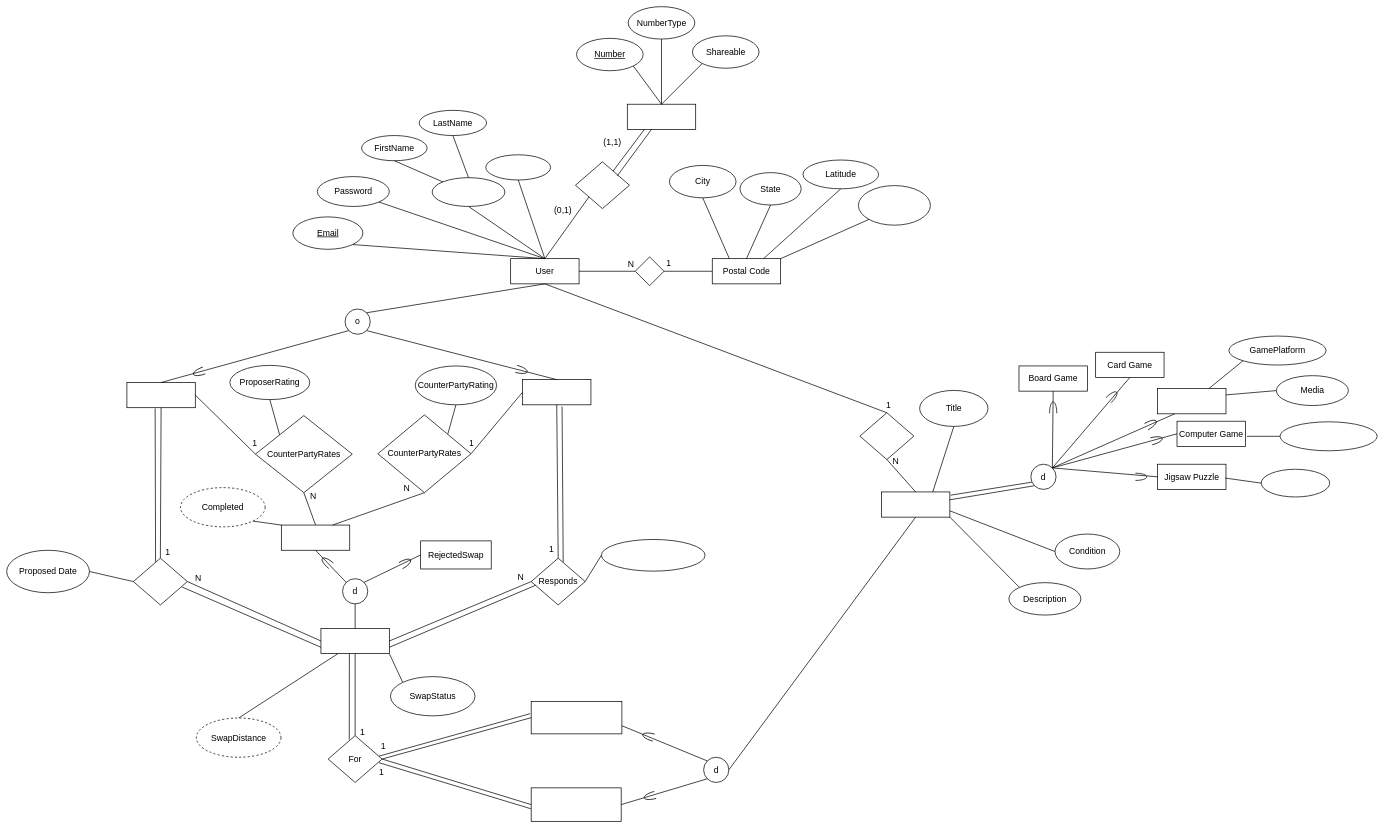
This 1383x828 diagram has some shape labels left out. The centre of each missing label's shape, as x and y in pixels:
AcceptedRejectedDate: (653,555)
AcceptedSwap: (315,537)
ComputerPlatform: (1328,436)
CounterParty: (556,392)
CounterPartyItem: (576,804)
Has a: (602,185)
Item: (915,504)
Lists: (886,436)
Longitude: (894,205)
Name: (468,192)
NickName: (518,167)
Phone Number: (661,117)
PieceCount: (1295,483)
Proposer: (160,395)
ProposerItem: (576,717)
Requests: (160,581)
Swap: (355,641)
Video Game: (1191,401)
